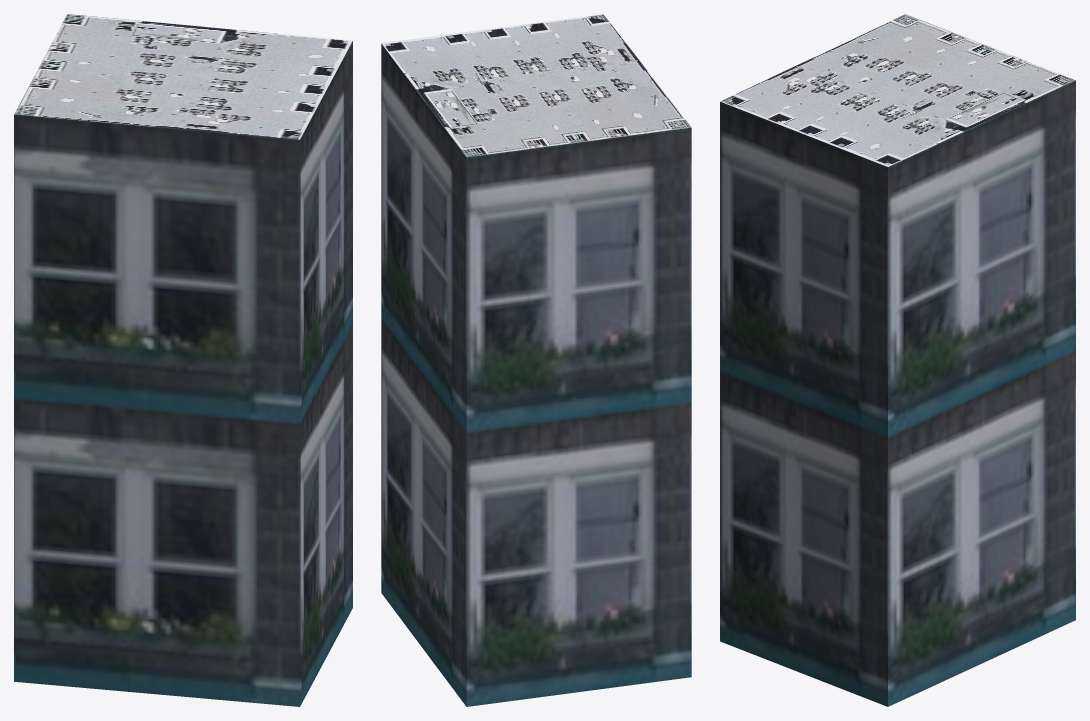
File: ResTex__463.fbx
3 views of the same model, side by side, from view 1: azimuth 30°, elevation 25°; view 2: azimuth 150°, elevation 25°; view 3: azimuth 270°, elevation 25° (orthographic). The views are drawn at different scales.
Parts seen in each view (by area): view 1: CityEngineMaterial_11_m, CityEngineMaterial_m; view 2: CityEngineMaterial_11_m, CityEngineMaterial_m; view 3: CityEngineMaterial_11_m, CityEngineMaterial_m.
Boxes of the visible parts, x1,y1,x2,y2 form: CityEngineMaterial_11_m: (14, 41, 352, 706); CityEngineMaterial_m: (14, 14, 352, 139); CityEngineMaterial_11_m: (381, 44, 691, 706); CityEngineMaterial_m: (381, 14, 691, 157); CityEngineMaterial_11_m: (720, 80, 1075, 706); CityEngineMaterial_m: (720, 14, 1075, 166).
Size of the model in its own units: 3.65 by 6 by 3.58.
Materials: 2 (2 with a texture image).
